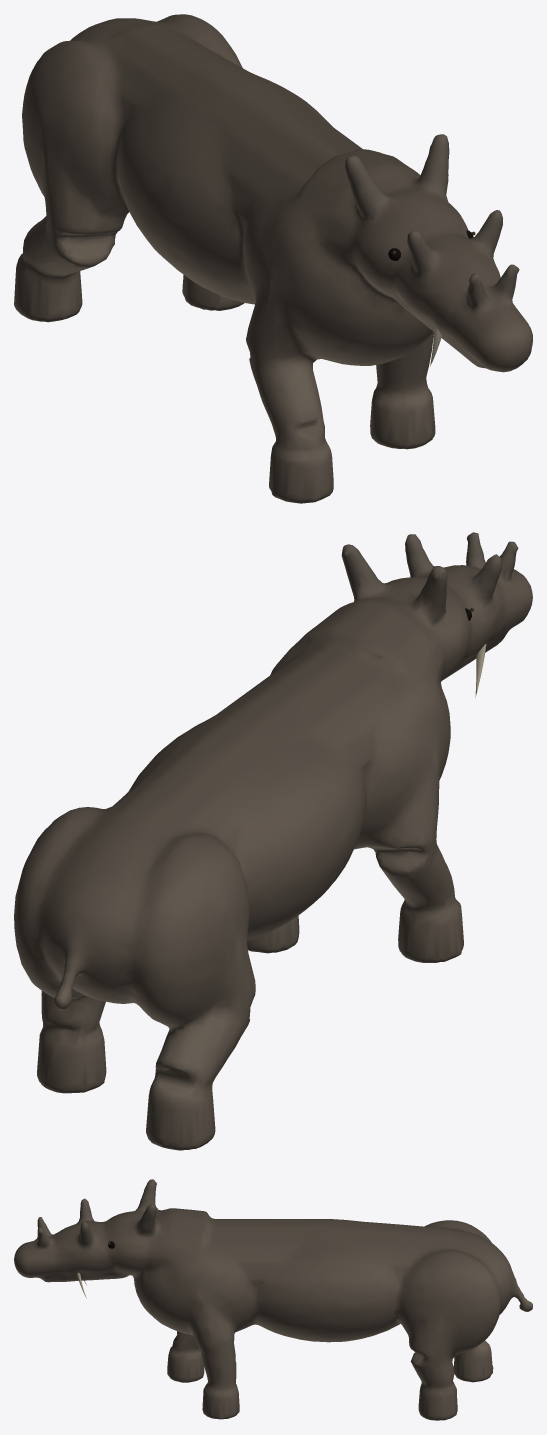
The model's file is UintatheriumAnceps.fbx.
3 views of the same model, one above another, from view 1: azimuth 30°, elevation 25°; view 2: azimuth 150°, elevation 25°; view 3: azimuth 270°, elevation 25° (orthographic). The views are drawn at different scales.
Visible parts, largest first — view 1: UintatheriumAnceps; view 2: UintatheriumAnceps; view 3: UintatheriumAnceps.
Boxes of the visible parts, <box> form: UintatheriumAnceps: <box>14,14,532,503</box>; UintatheriumAnceps: <box>14,532,532,1150</box>; UintatheriumAnceps: <box>14,1179,532,1420</box>.
Bounding box in the file's own units: 0.616 × 1.02 × 2.37.
